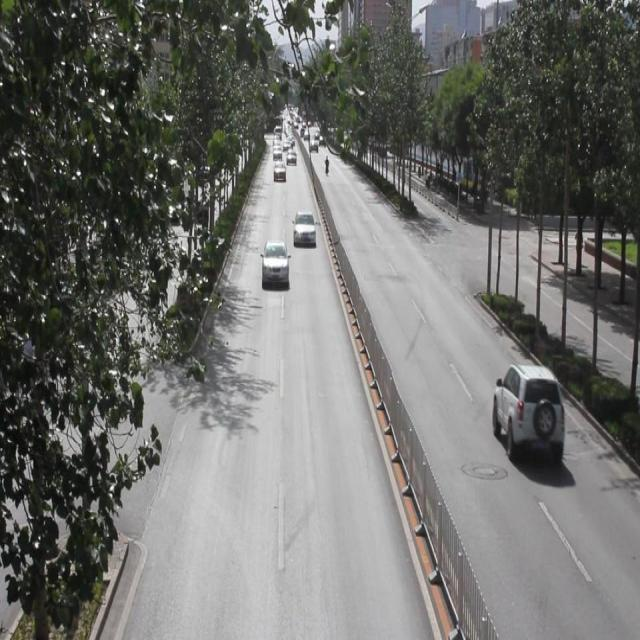car: (486, 343, 566, 469), (259, 235, 306, 298), (286, 204, 322, 276), (272, 152, 288, 191), (284, 141, 301, 170)
